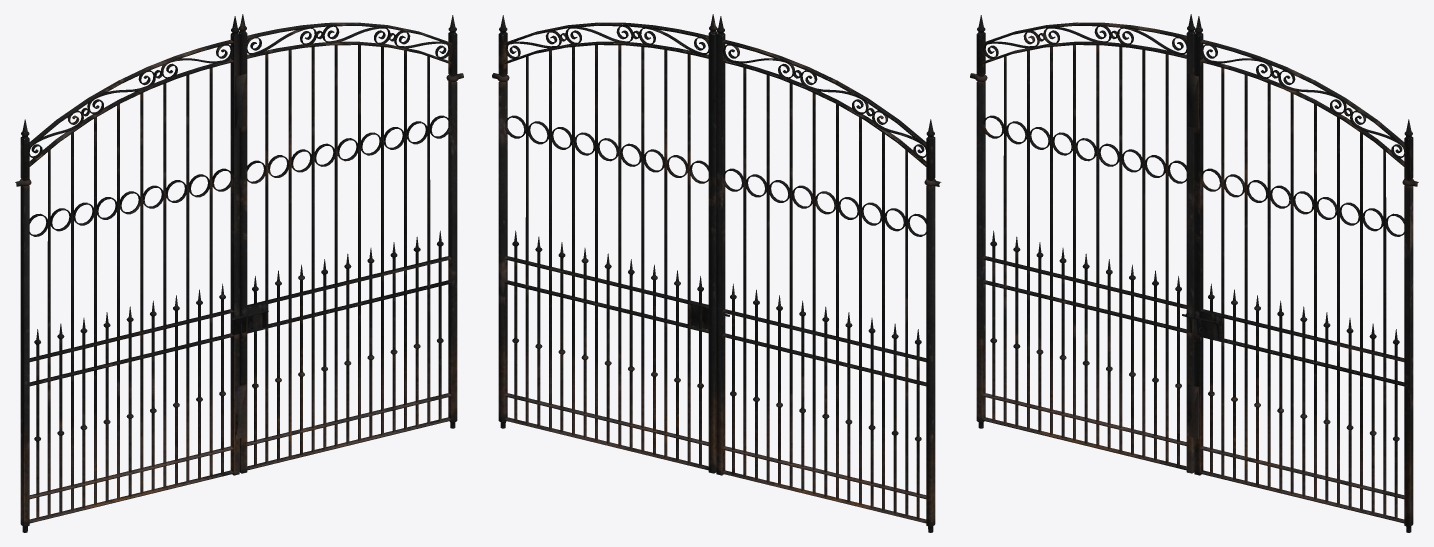
The model's file is large_iron_gate.glb.
3 renders of one model, left to right at view 1: azimuth 30°, elevation 25°; view 2: azimuth 150°, elevation 25°; view 3: azimuth 330°, elevation 25°, orthographic.
Parts seen in each view (by area): view 1: large_iron_gate_right_door, large_iron_gate_left_door; view 2: large_iron_gate_left_door, large_iron_gate_right_door; view 3: large_iron_gate_right_door, large_iron_gate_left_door.
Boxes of the visible parts, bbox=[...] form: large_iron_gate_right_door: bbox=[235, 14, 457, 473]; large_iron_gate_left_door: bbox=[20, 16, 240, 532]; large_iron_gate_left_door: bbox=[716, 16, 935, 532]; large_iron_gate_right_door: bbox=[498, 14, 717, 473]; large_iron_gate_right_door: bbox=[1187, 16, 1413, 532]; large_iron_gate_left_door: bbox=[976, 14, 1195, 473].
Size of the model in its own units: 2.95 by 2.93 by 0.0977.
Materials: 1 (1 with a texture image).
